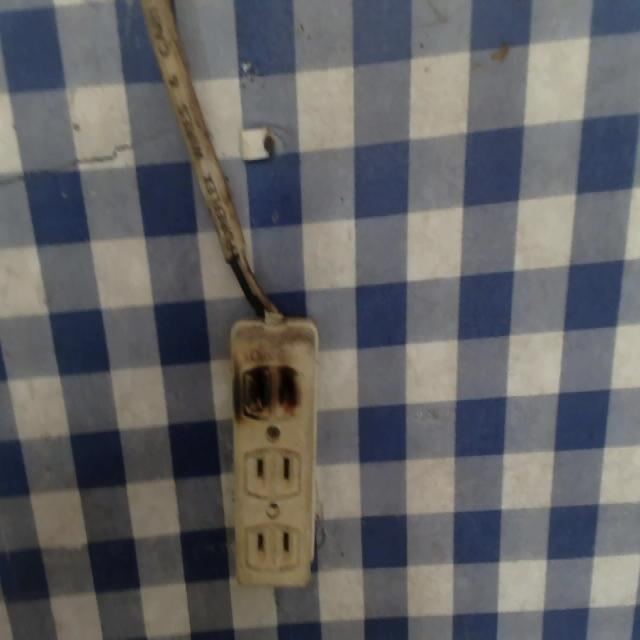-: (225, 354, 306, 426)
